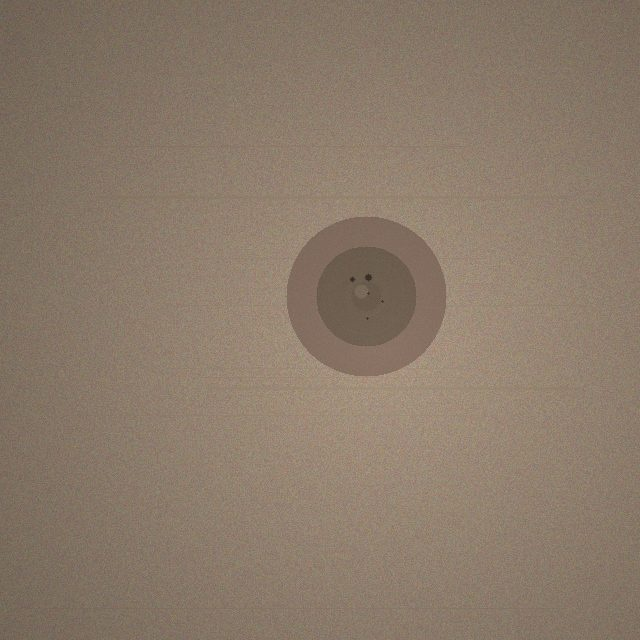shrinkage: (286, 216, 446, 376)
